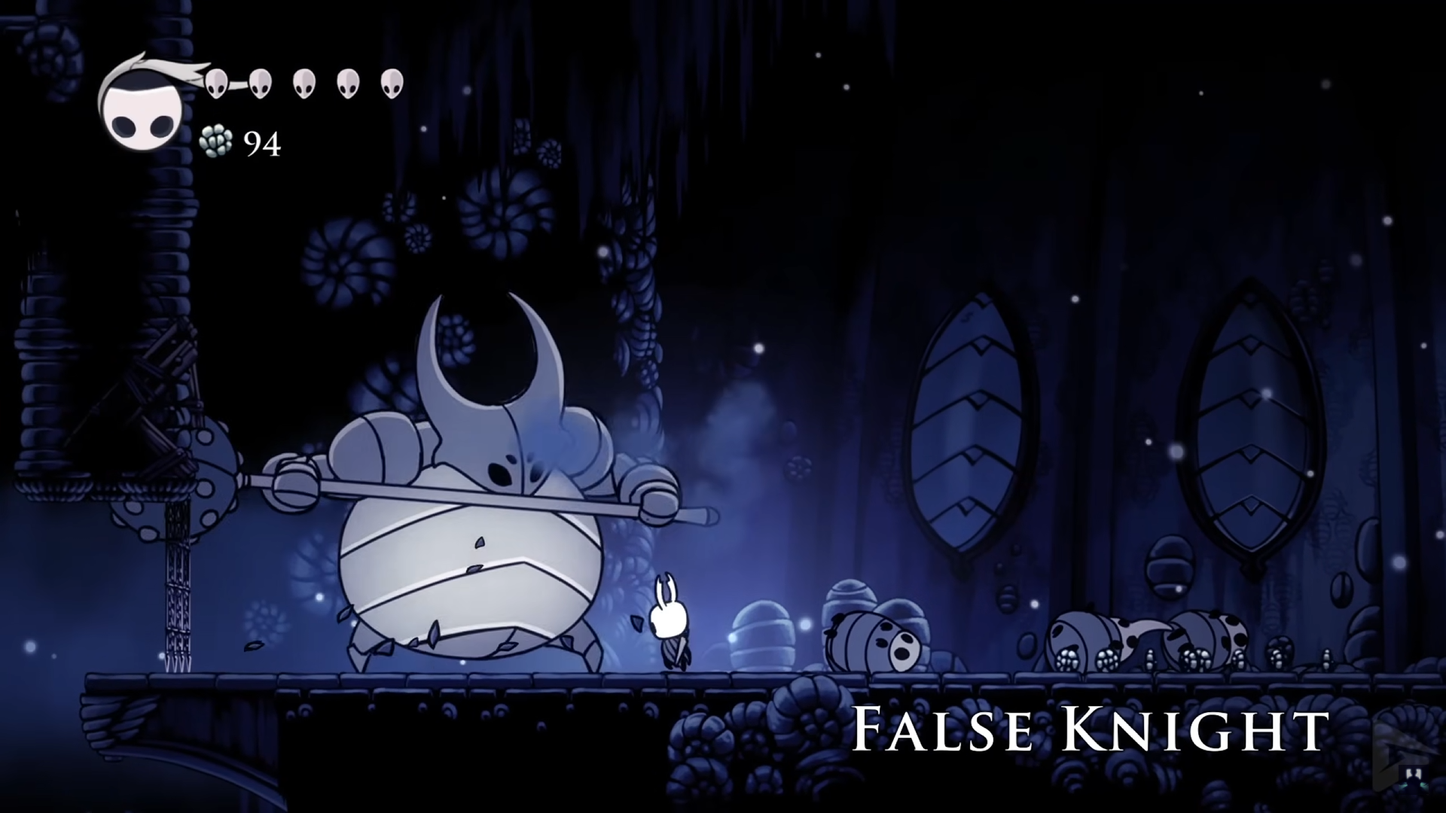HK: (642, 568, 697, 676)
